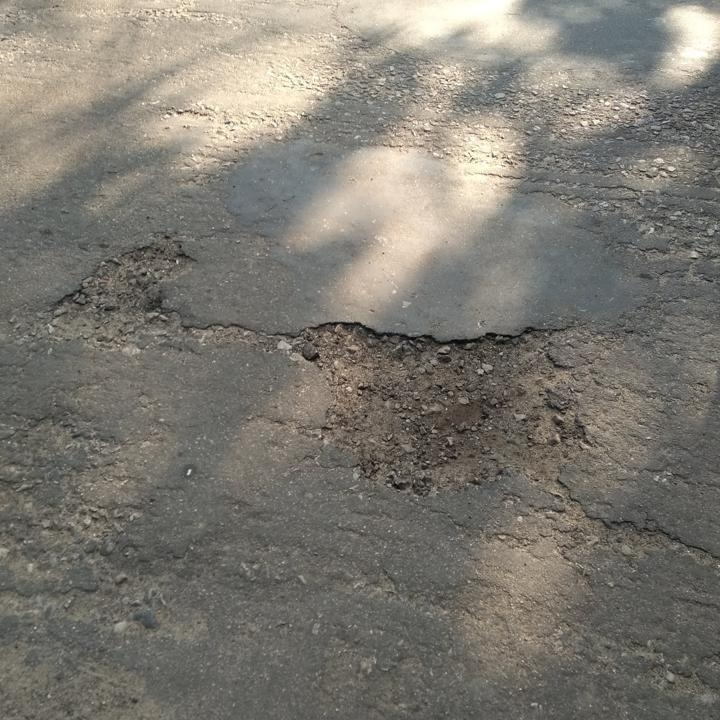pothole: (303, 311, 596, 506), (45, 238, 199, 358)
